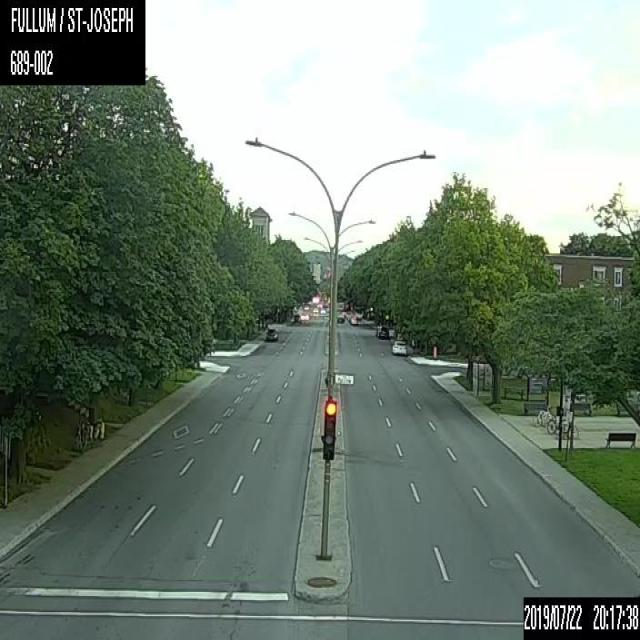vehicle: (391, 338, 406, 354), (376, 324, 389, 339), (266, 327, 278, 341), (290, 314, 300, 322), (300, 312, 309, 320), (336, 314, 344, 322)
